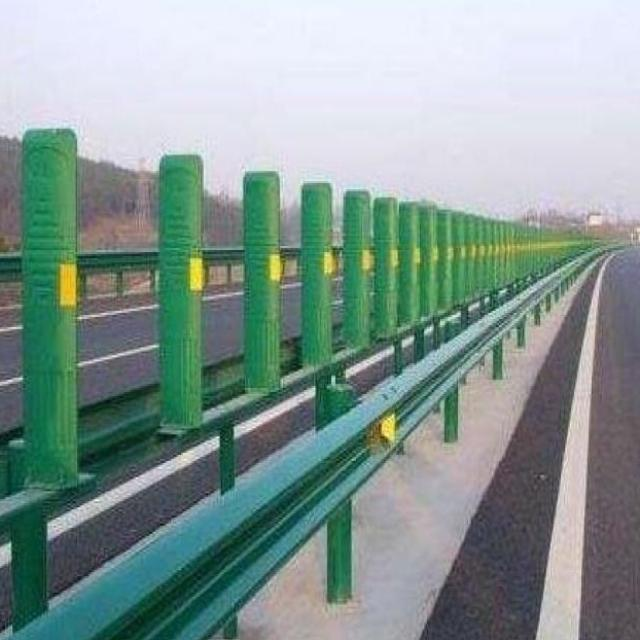Guard rail: (0, 249, 605, 640)
